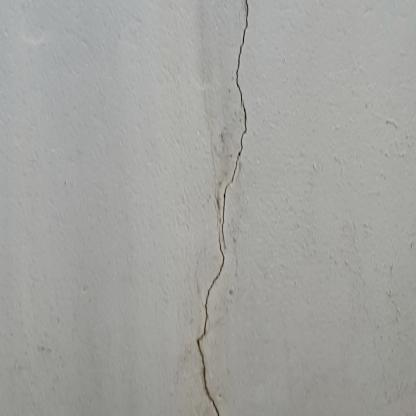crack: (198, 230, 225, 416), (222, 102, 247, 242), (237, 0, 249, 102)
